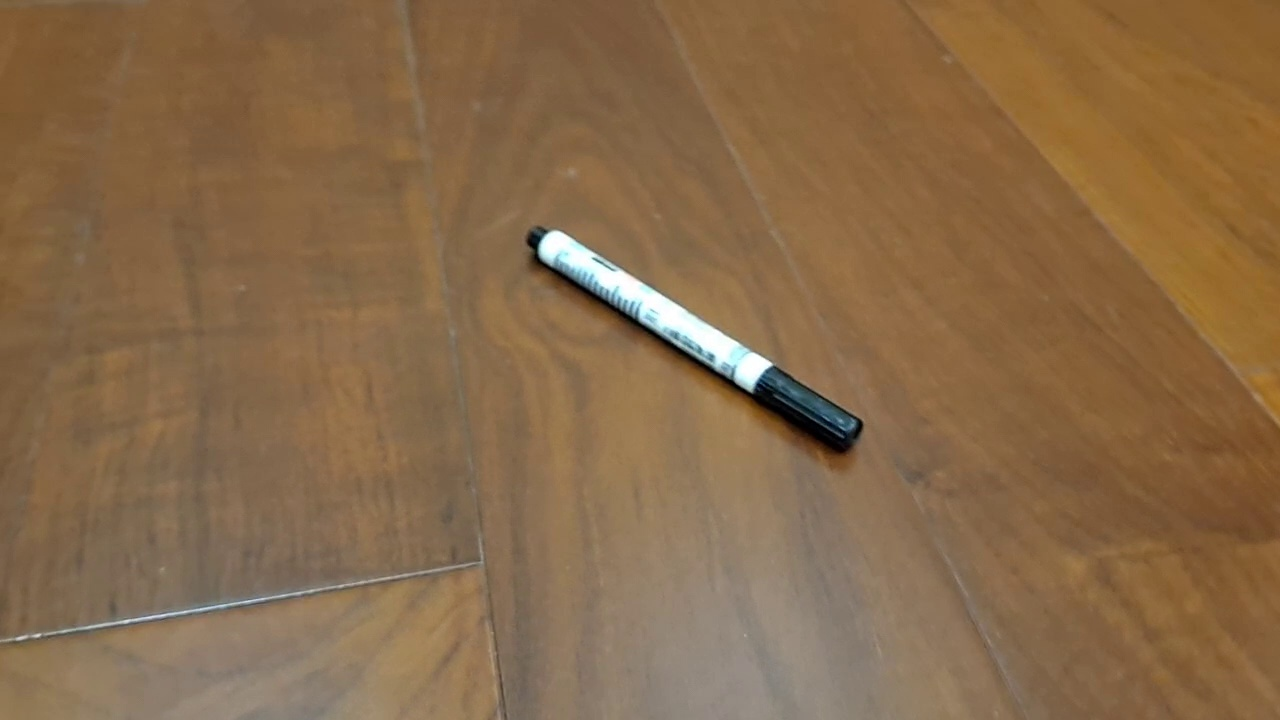pen: (525, 225, 864, 453)
